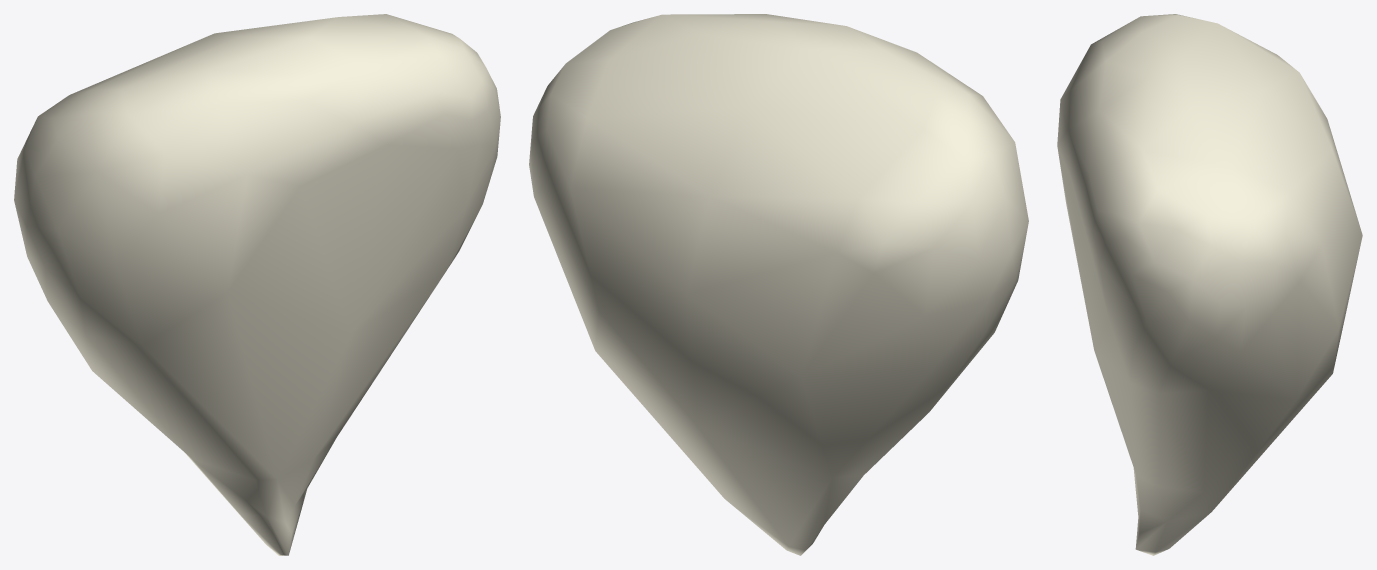
The model's file is bladder.glb.
The picture shows the model from 3 angles, left to right: view 1: azimuth 30°, elevation 25°; view 2: azimuth 150°, elevation 25°; view 3: azimuth 270°, elevation 25°; orthographic projection. The views are drawn at different scales.
Parts seen in each view (by area): view 1: urinary bladder; view 2: urinary bladder; view 3: urinary bladder.
Part boxes in pixels (x1=…): urinary bladder: x1=14, y1=14, x2=500, y2=555; urinary bladder: x1=529, y1=14, x2=1028, y2=555; urinary bladder: x1=1057, y1=14, x2=1362, y2=555.
Size of the model in its own units: 66.77 by 71.71 by 40.25.
